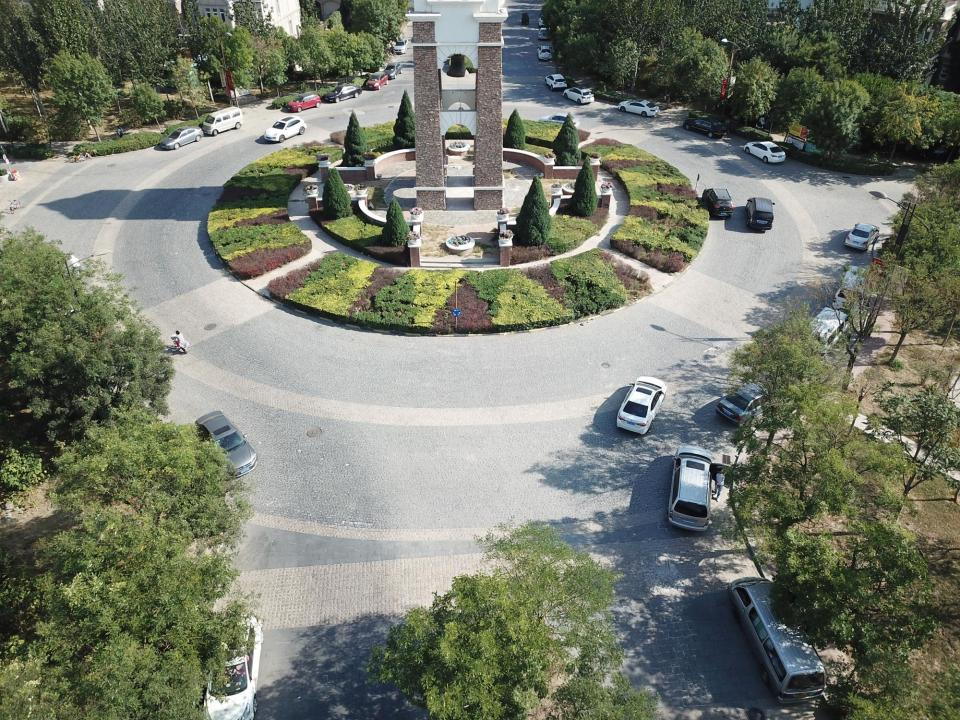car: (202, 613, 264, 720), (666, 443, 736, 531), (193, 411, 260, 477), (194, 410, 258, 478), (715, 379, 786, 428), (616, 375, 668, 435), (264, 115, 307, 144), (160, 125, 204, 151), (702, 186, 734, 219), (845, 221, 880, 251), (743, 140, 786, 164), (682, 116, 728, 138), (745, 197, 775, 230), (537, 113, 581, 131), (324, 83, 362, 103), (616, 99, 658, 117), (287, 92, 321, 113), (563, 86, 596, 104), (545, 73, 568, 91), (365, 72, 388, 90), (382, 61, 403, 80), (537, 44, 554, 61), (393, 39, 410, 54), (538, 27, 552, 40), (538, 13, 551, 26)
van: (728, 576, 827, 706), (802, 306, 848, 359), (832, 265, 870, 314), (202, 106, 242, 136)
